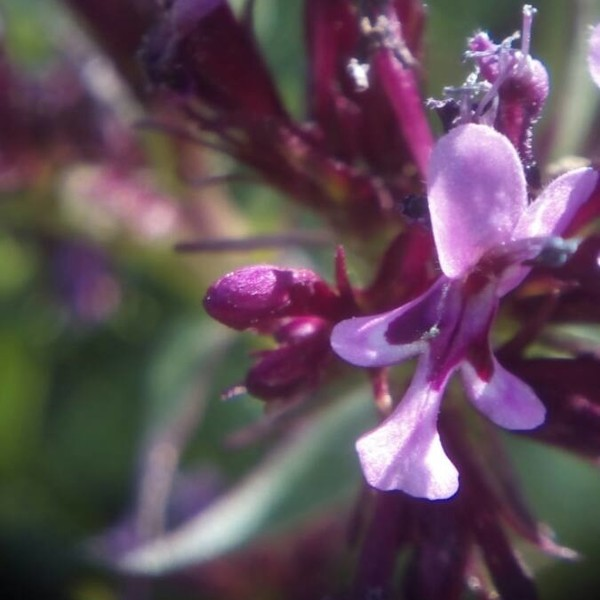obstacle: (161, 73, 579, 488)
